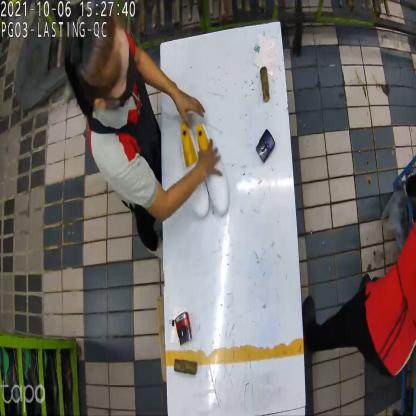shoes: (176, 118, 232, 217)
stamp: (173, 312, 195, 344), (254, 127, 274, 162)
